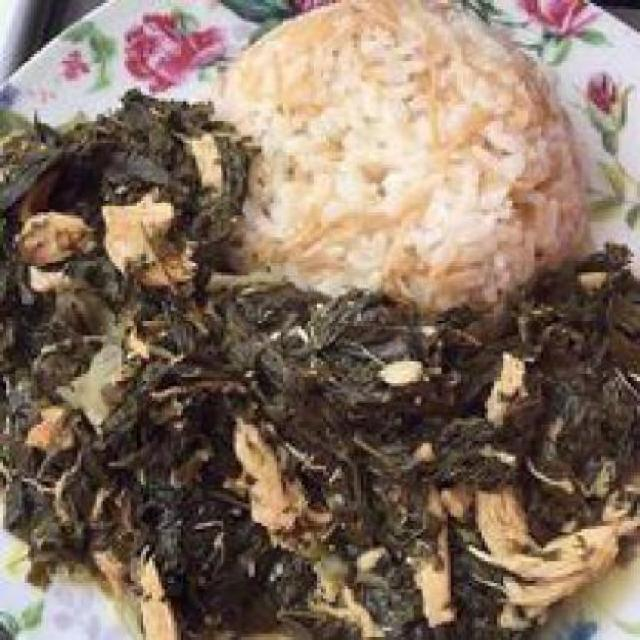fried rice: (210, 2, 584, 288)
